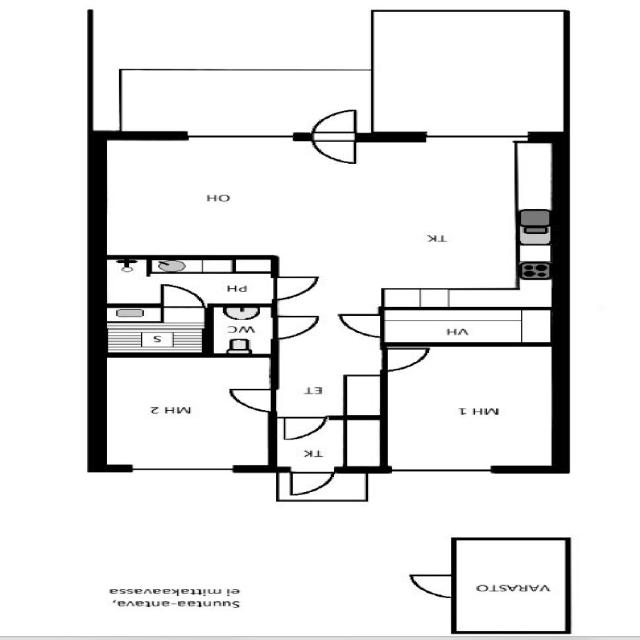door: (303, 104, 368, 167), (288, 310, 381, 340), (262, 271, 328, 303), (272, 412, 334, 443), (280, 466, 338, 497), (335, 309, 393, 340), (222, 385, 283, 414), (375, 345, 439, 372), (266, 313, 324, 342), (403, 572, 458, 600), (155, 283, 206, 310)
window: (170, 127, 307, 143), (408, 128, 546, 143), (117, 462, 246, 476), (378, 464, 504, 475)
zone: (90, 137, 562, 270), (366, 6, 566, 137), (384, 343, 560, 468), (100, 354, 272, 468), (454, 539, 568, 633), (94, 257, 279, 307), (379, 309, 563, 344), (97, 306, 207, 354), (210, 304, 275, 354)
